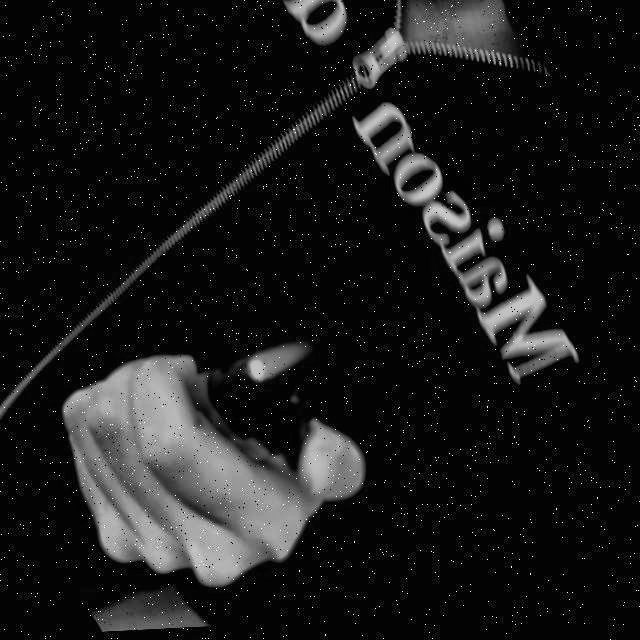Fire: (242, 320, 331, 399)
